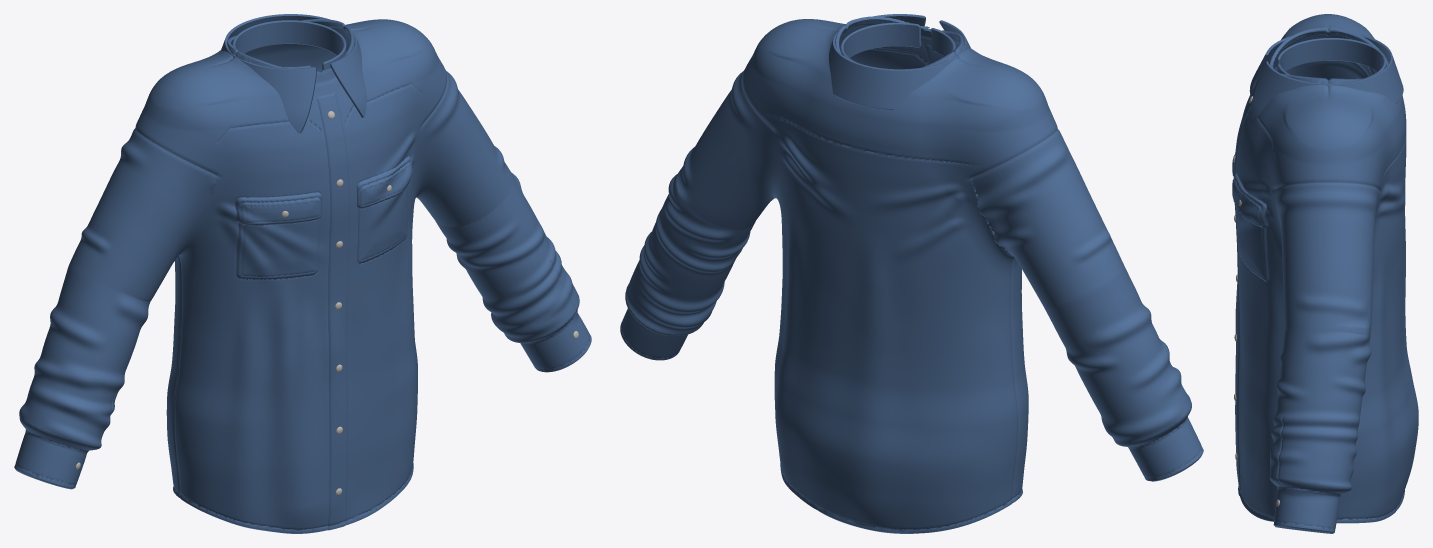
The model's file is 06_camisa_vaquera.glb.
3 renders of one model, left to right at view 1: azimuth 30°, elevation 25°; view 2: azimuth 150°, elevation 25°; view 3: azimuth 270°, elevation 25°, orthographic. The views are drawn at different scales.
Visible parts, largest first — view 1: body; view 2: body; view 3: body.
Part boxes in pixels (x1=…): body: x1=14, y1=14, x2=591, y2=533; body: x1=620, y1=14, x2=1203, y2=533; body: x1=1232, y1=14, x2=1418, y2=533.
Size of the model in its own units: 1 by 0.7701 by 0.2959.
